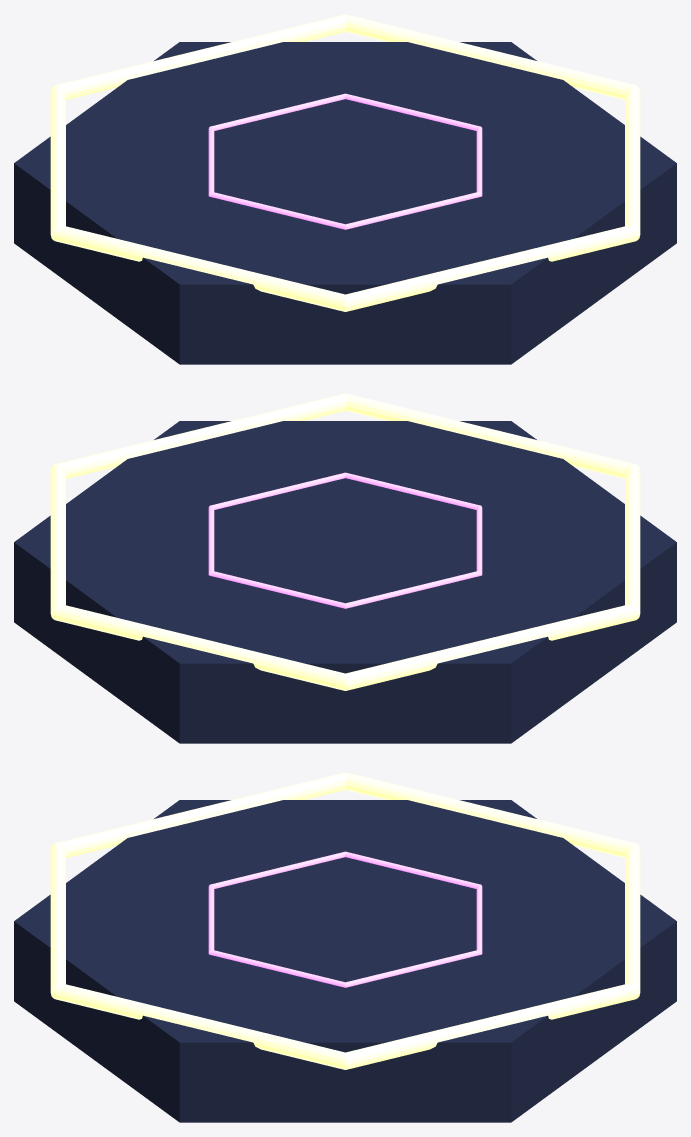
Rendered from platform.glb.
3 views of the same model, one above another, from view 1: azimuth 30°, elevation 25°; view 2: azimuth 150°, elevation 25°; view 3: azimuth 270°, elevation 25° (orthographic).
Parts seen in each view (by area): view 1: Hex, Edge, Rune; view 2: Hex, Edge, Rune; view 3: Hex, Edge, Rune.
Boxes of the visible parts, x1,y1,x2,y2 form: Hex: (14,42,676,364); Edge: (50,14,640,311); Rune: (208,93,482,229); Hex: (14,421,676,743); Edge: (50,393,640,690); Rune: (208,472,482,608); Hex: (14,800,676,1122); Edge: (50,772,640,1069); Rune: (208,851,482,987).
Size of the model in its own units: 3.08 by 1.04 by 3.
